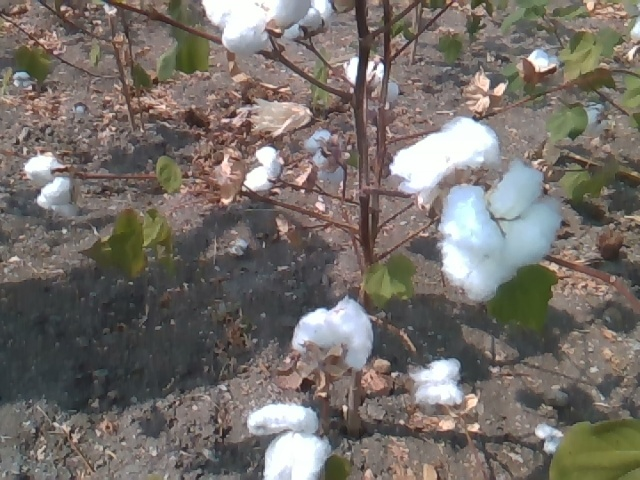cotton: (391, 123, 570, 294), (198, 1, 340, 61), (234, 407, 345, 479), (289, 298, 377, 378), (341, 58, 410, 108), (232, 141, 290, 198), (303, 128, 354, 192), (410, 355, 467, 411), (513, 44, 564, 90), (38, 175, 77, 220), (530, 420, 575, 459), (20, 154, 68, 187)
